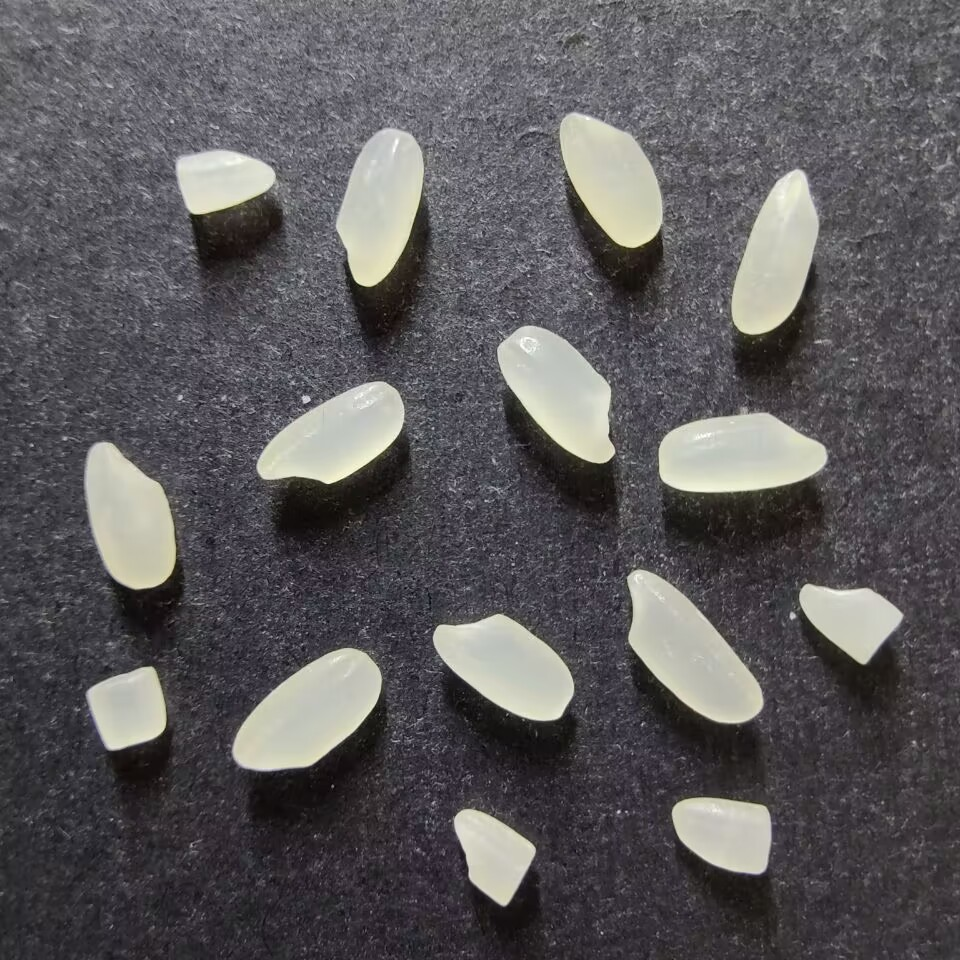broken: (797, 583, 902, 665), (452, 808, 535, 907), (671, 797, 772, 875), (86, 666, 167, 751), (175, 150, 275, 215)
rice: (626, 568, 763, 724), (231, 646, 381, 772), (495, 325, 616, 464), (431, 612, 575, 722), (255, 380, 405, 485), (730, 169, 819, 336), (334, 127, 424, 287), (558, 112, 663, 248), (83, 440, 176, 589), (657, 412, 828, 493)
